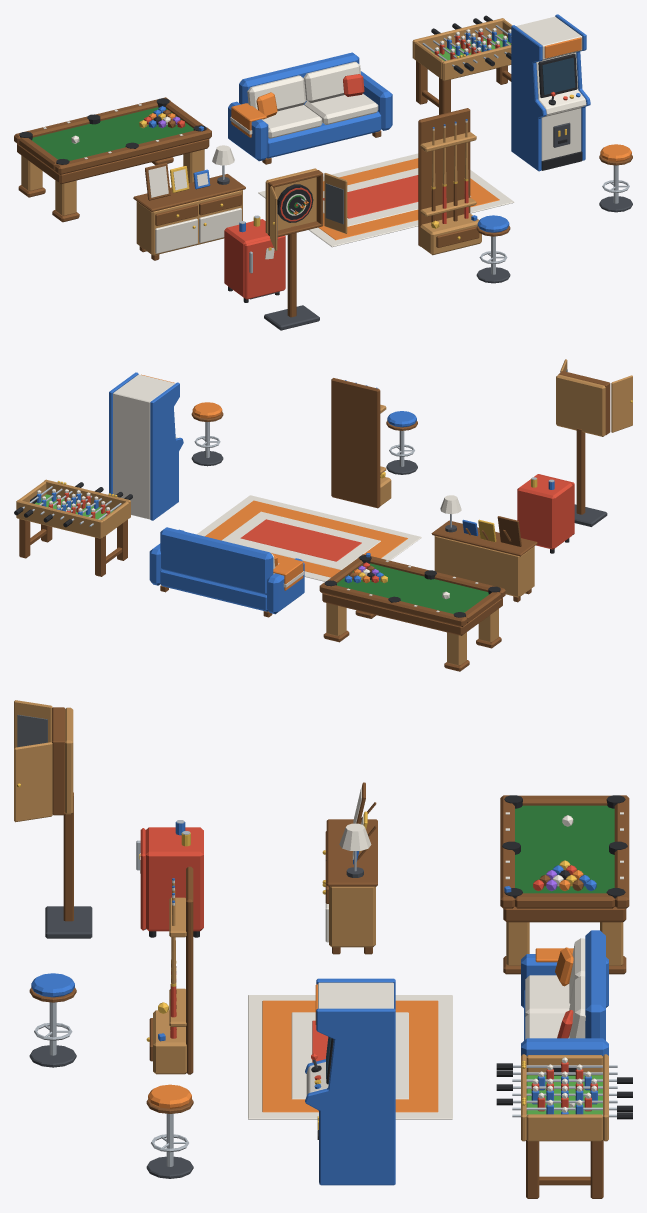
Rendered from cosy-game-room-set.glb.
3 renders of one model, top to bottom at view 1: azimuth 30°, elevation 25°; view 2: azimuth 150°, elevation 25°; view 3: azimuth 270°, elevation 25°, orthographic. The views are drawn at different scales.
Visible parts, largest first — view 1: CueRack_BackPanel, Arcade_Side_L, PoolTable_Felt, Arcade_Body, PoolTable, Sofa_Base, Rug_Field, MiniFridge_Door, Rug_Center, PoolTable_Body, Rug_Border, PoolTable_RailLong_-1 (+39 smaller); view 2: CueRack_BackPanel, Arcade_Body, Sofa_Back, Sideboard_Body, PoolTable, Arcade_Side_L, MiniFridge_Body, PoolTable_Felt, Rug_Field, Dartboard_Back, Rug_Center, Rug_Inner (+18 smaller); view 3: Arcade_Side_R, Rug_Field, PoolTable_Felt, PoolTable, Rug_Border, MiniFridge_Body, Rug_Inner, Dartboard_Door_R, Sideboard_Body, Sideboard_Top, Arcade_Body, Sofa_Back (+27 smaller).
Part boxes in pixels (bbox=[...]): CueRack_BackPanel: bbox=[418, 108, 470, 246]; Arcade_Side_L: bbox=[511, 25, 546, 171]; PoolTable_Felt: bbox=[32, 107, 193, 160]; Arcade_Body: bbox=[516, 16, 586, 160]; PoolTable: bbox=[14, 97, 206, 165]; Sofa_Base: bbox=[266, 111, 381, 158]; Rug_Field: bbox=[318, 158, 499, 240]; MiniFridge_Door: bbox=[245, 235, 285, 299]; Rug_Center: bbox=[323, 175, 418, 218]; PoolTable_Body: bbox=[17, 139, 209, 184]; Rug_Border: bbox=[258, 153, 514, 247]; PoolTable_RailLong_-1: bbox=[55, 127, 211, 174]; CueRack_BackPanel: bbox=[331, 378, 380, 508]; Arcade_Body: bbox=[113, 374, 177, 519]; Sofa_Back: bbox=[160, 527, 273, 594]; Sideboard_Body: bbox=[434, 536, 534, 597]; PoolTable: bbox=[319, 555, 500, 642]; Arcade_Side_L: bbox=[150, 382, 183, 520]; MiniFridge_Body: bbox=[517, 474, 572, 549]; PoolTable_Felt: bbox=[337, 563, 488, 613]; Rug_Field: bbox=[205, 500, 407, 577]; Dartboard_Back: bbox=[556, 374, 605, 436]; Rug_Center: bbox=[240, 519, 361, 561]; Rug_Inner: bbox=[222, 511, 380, 569]; Arcade_Side_R: bbox=[305, 1008, 395, 1185]; Rug_Field: bbox=[262, 1000, 438, 1112]; PoolTable_Felt: bbox=[515, 805, 614, 893]; PoolTable: bbox=[502, 795, 629, 974]; Rug_Border: bbox=[248, 995, 452, 1119]; MiniFridge_Body: bbox=[145, 827, 203, 931]; Rug_Inner: bbox=[291, 1012, 408, 1099]; Dartboard_Door_R: bbox=[14, 742, 52, 822]; Sideboard_Body: bbox=[329, 886, 375, 947]; Sideboard_Top: bbox=[326, 819, 377, 886]; Arcade_Body: bbox=[306, 982, 393, 1095]; Sofa_Back: bbox=[585, 930, 605, 1040].
Bounding box in the file's own units: 26.4 × 7.6 × 21.13.
